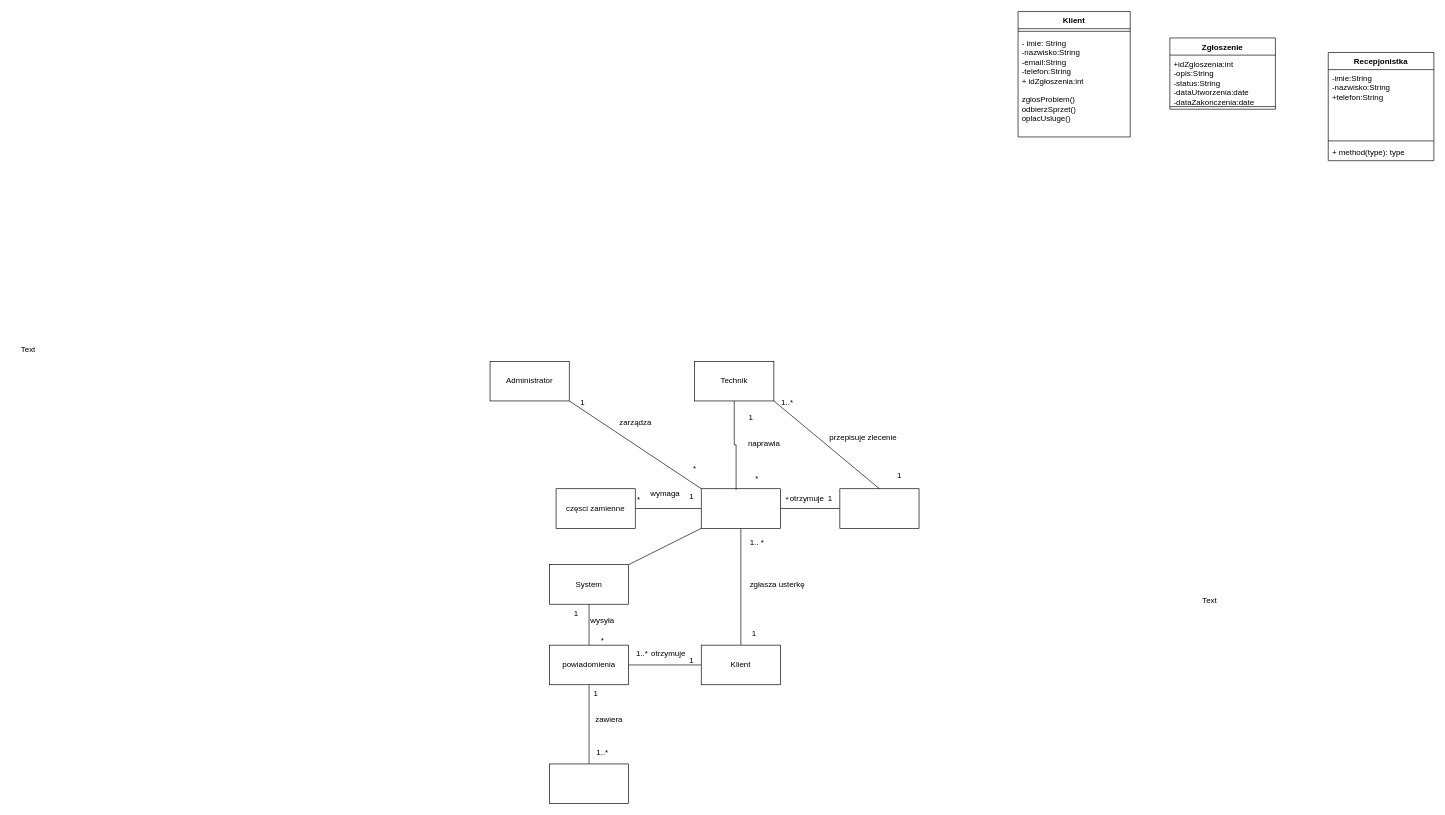
The diagram is 1445 pixels wide and 815 high, and some of its shapes have lost their labels. The shapes that lost their labels are listed below. From the top down, each one's centre as x and y in pixels, then its label:
At [740,508]: "zlecenie".
At [879,508]: "recepcjonista".
At [589,783]: "Faktura".
